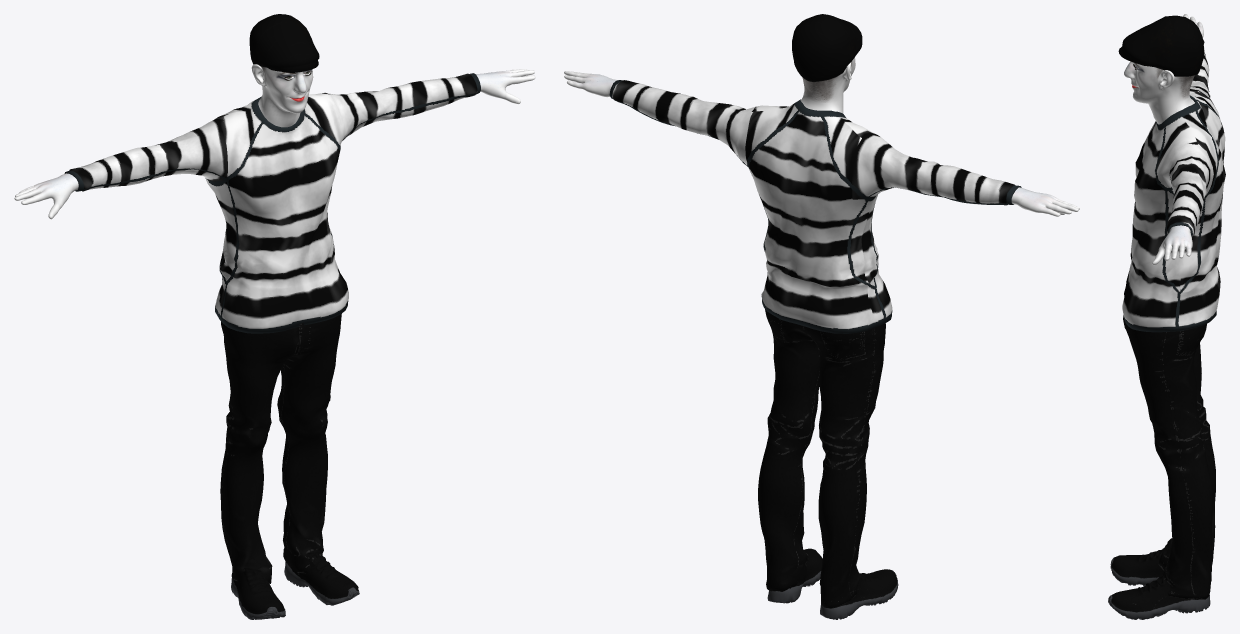
File: Zack_object.obj
3 renders of one model, left to right at view 1: azimuth 30°, elevation 25°; view 2: azimuth 150°, elevation 25°; view 3: azimuth 270°, elevation 25°, orthographic.
Visible parts, largest first — view 1: Tops, Bottoms, Body, Shoes, Hats; view 2: Tops, Bottoms, Hats, Body, Shoes; view 3: Tops, Bottoms, Shoes, Hats, Body.
Boxes of the visible parts, box(x1,y1,x2,y2) form: Tops: box(64, 73, 480, 333); Bottoms: box(220, 313, 341, 583); Body: box(14, 64, 535, 219); Shoes: box(231, 546, 359, 619); Hats: box(249, 14, 319, 72); Tops: box(609, 80, 1021, 333); Bottoms: box(758, 309, 885, 608); Hats: box(792, 14, 862, 81); Body: box(564, 57, 1079, 216); Shoes: box(767, 548, 898, 619); Tops: box(1122, 39, 1225, 332); Bottoms: box(1123, 315, 1215, 599); Shoes: box(1108, 538, 1211, 619); Hats: box(1118, 15, 1204, 76); Body: box(1124, 14, 1203, 265).
Size of the model in its own units: 177 by 190 by 35.15.
5 materials, 5 textured.
